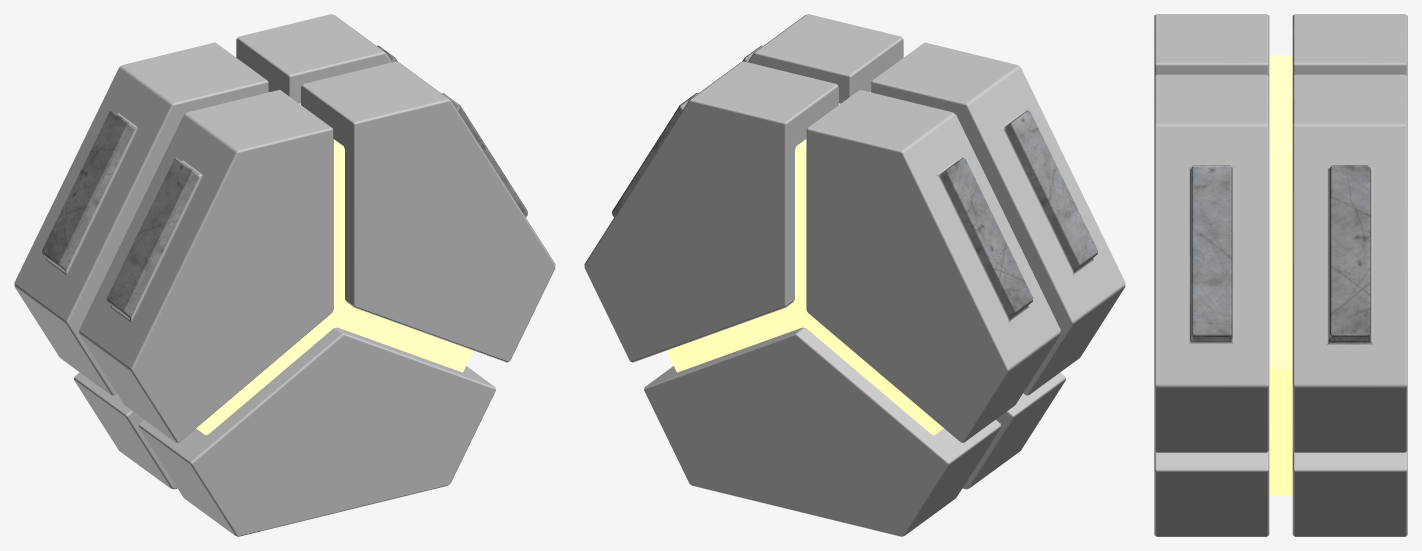
The model's file is Hexagonal-Prism.fbx.
3 views of the same model, side by side, from view 1: azimuth 30°, elevation 25°; view 2: azimuth 150°, elevation 25°; view 3: azimuth 270°, elevation 25° (orthographic). The views are drawn at different scales.
Visible parts, largest first — view 1: Hexagonal Prism; view 2: Hexagonal Prism; view 3: Hexagonal Prism.
Part boxes in pixels (bbox=[...]): Hexagonal Prism: bbox=[14, 14, 555, 536]; Hexagonal Prism: bbox=[584, 14, 1125, 536]; Hexagonal Prism: bbox=[1154, 14, 1407, 536].
Bounding box in the file's own units: 1.99 × 0.9622 × 1.78.
